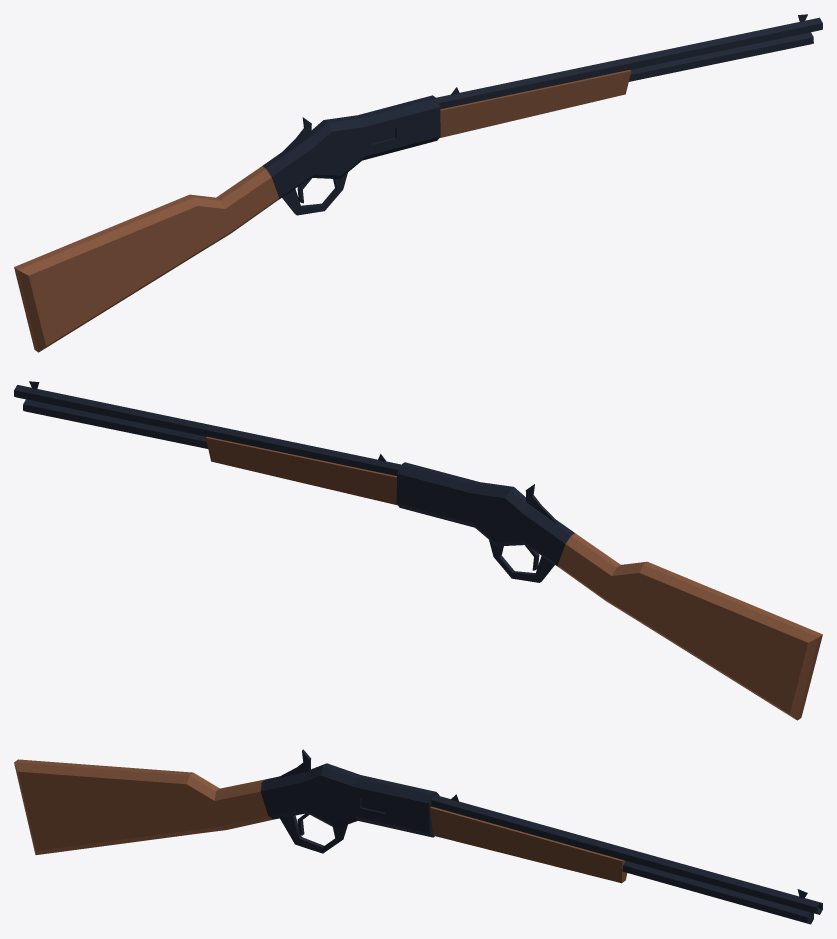
Rendered from Sheriff_Shotgun.fbx.
The picture shows the model from 3 angles, top to bottom: view 1: azimuth 30°, elevation 25°; view 2: azimuth 150°, elevation 25°; view 3: azimuth 330°, elevation 25°; orthographic projection.
Parts seen in each view (by area): view 1: Sheriff_Shotgun; view 2: Sheriff_Shotgun; view 3: Sheriff_Shotgun.
Boxes of the visible parts, left/top/right/bottom form: Sheriff_Shotgun: left=14, top=14, right=822, bottom=352; Sheriff_Shotgun: left=14, top=381, right=822, bottom=720; Sheriff_Shotgun: left=14, top=749, right=822, bottom=924.
Bounding box in the file's own units: 108 × 21.77 × 2.71.
